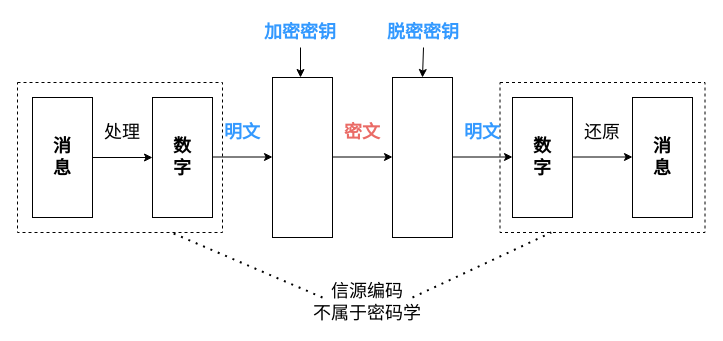
The diagram is 723 pixels wide and 341 high, and some of its shapes have lost their labels. Here are the shapes that lost their labels. From the top down, the box of each, then its label:
(272, 76, 332, 238): 加 密 算 法
(392, 76, 452, 238): 脱 密 算 法
